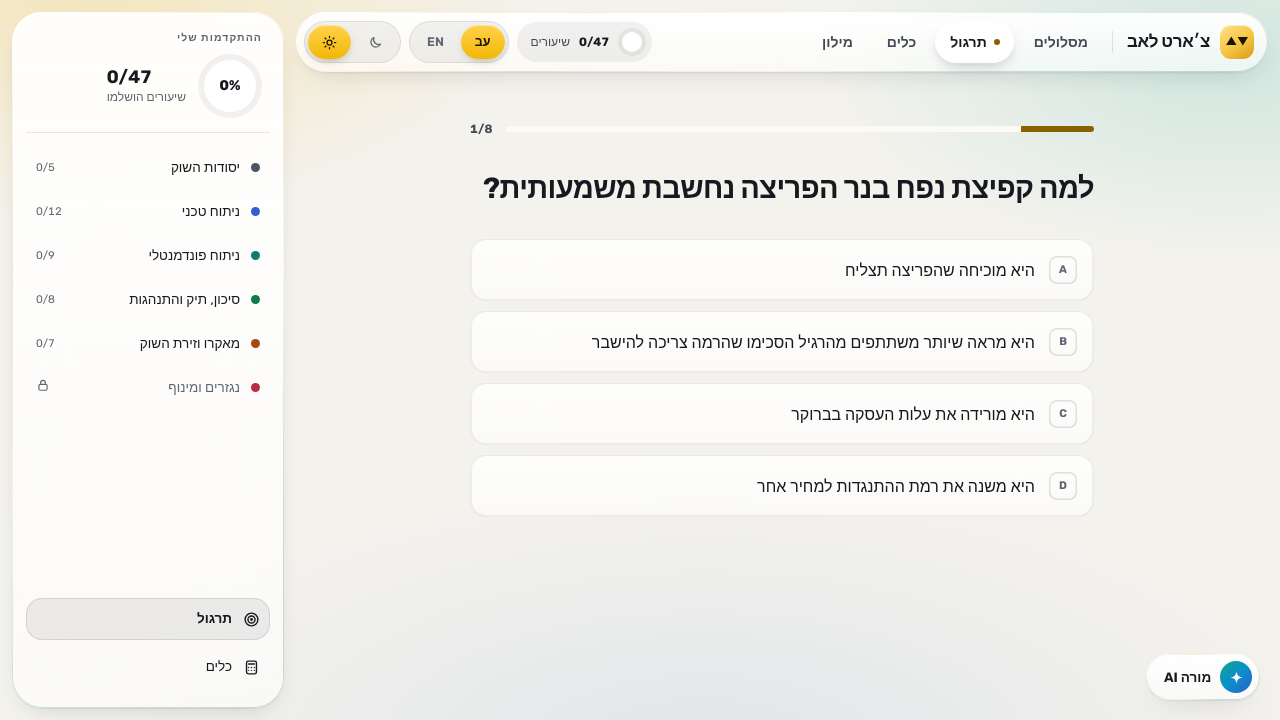
Test case: quiz route › answering reveals feedback and an explanation
The width and height of the screenshot is (1280, 720).
Click the button "A היא מוכיחה שהפריצה תצליח".
click(940, 270)  # box x1=470 y1=239 x2=1094 y2=301
(page scrolled)
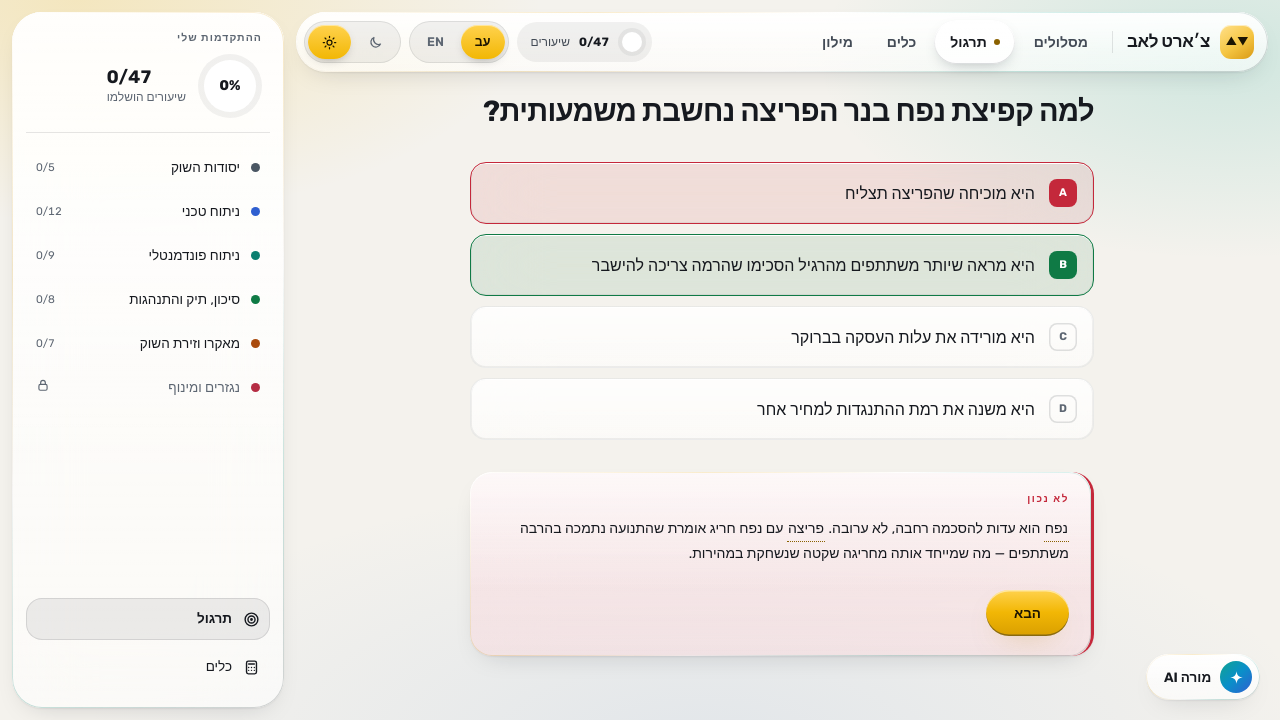
Now the message is shown, box x1=470 y1=472 x2=1094 y2=656
